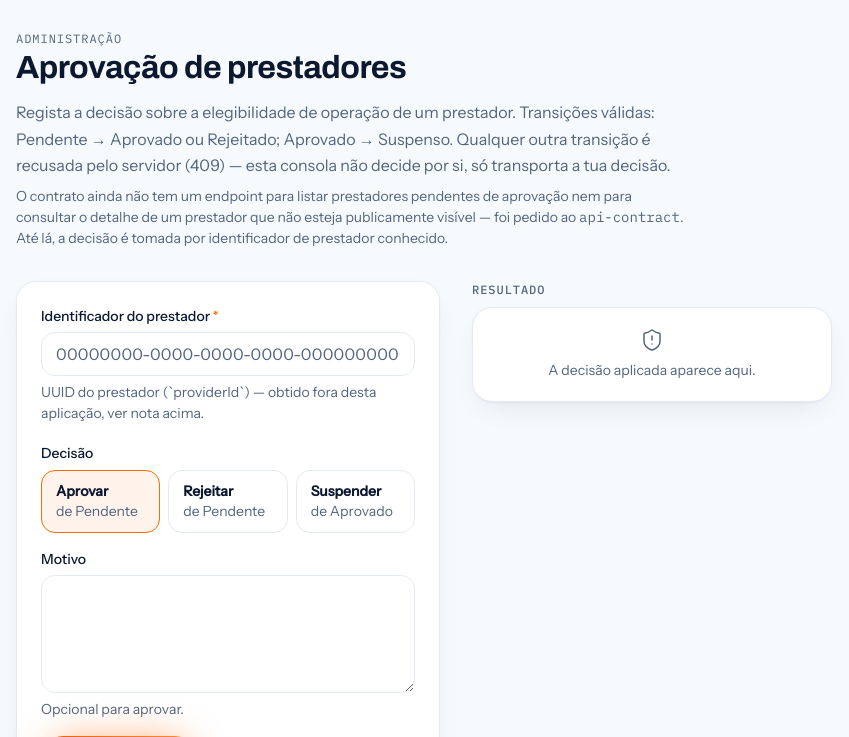
AdminProviderApprovalsPage — consola de aprovação (defeito C1) › 409 do servidor (transição inválida) aparece como erro, sem rebentar a página
Type "a419d818-cc7f-4910-a99b-c14cb157f3eb" into the field labelled "Identificador do prestador *" at (228, 354), box [41,332,415,376]
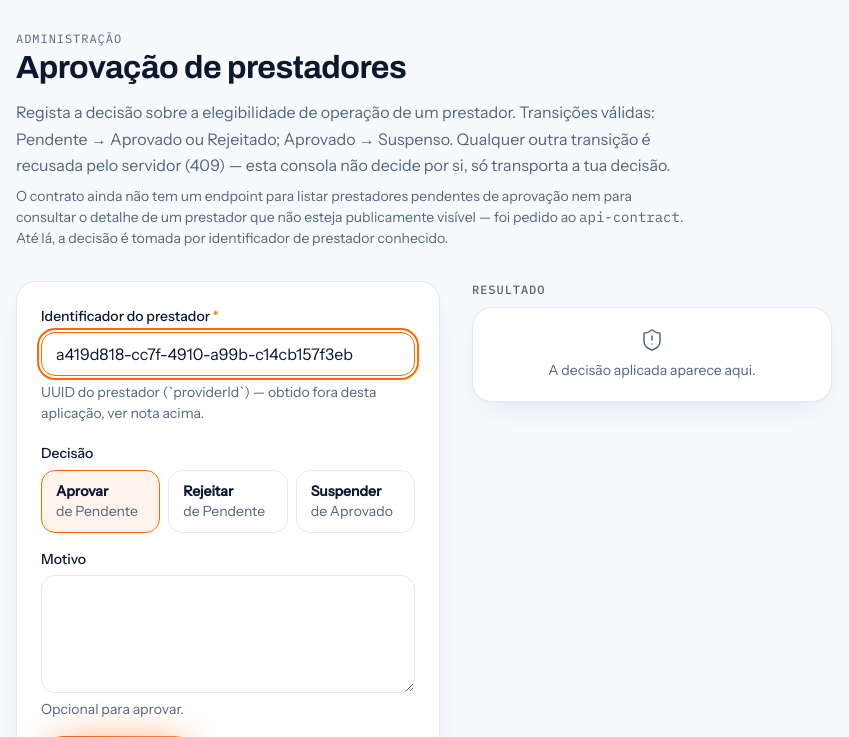
Click the radio button labelled "Aprovar de Pendente" at (101, 502), box [41,470,160,533]
(page scrolled)
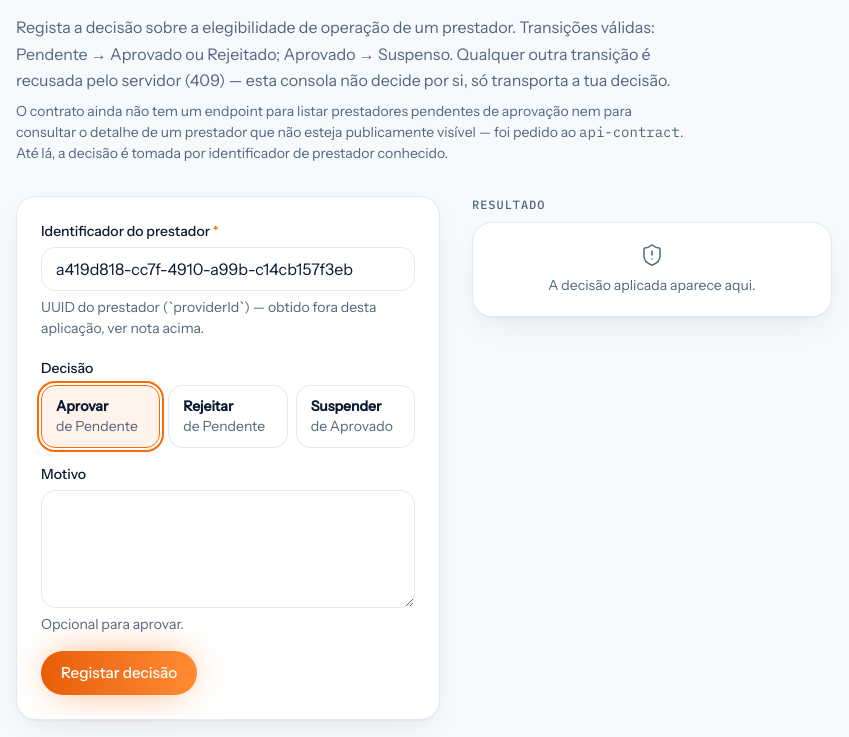
Click the button "Registar decisão" at (119, 673), box [41,651,197,695]
(page scrolled)
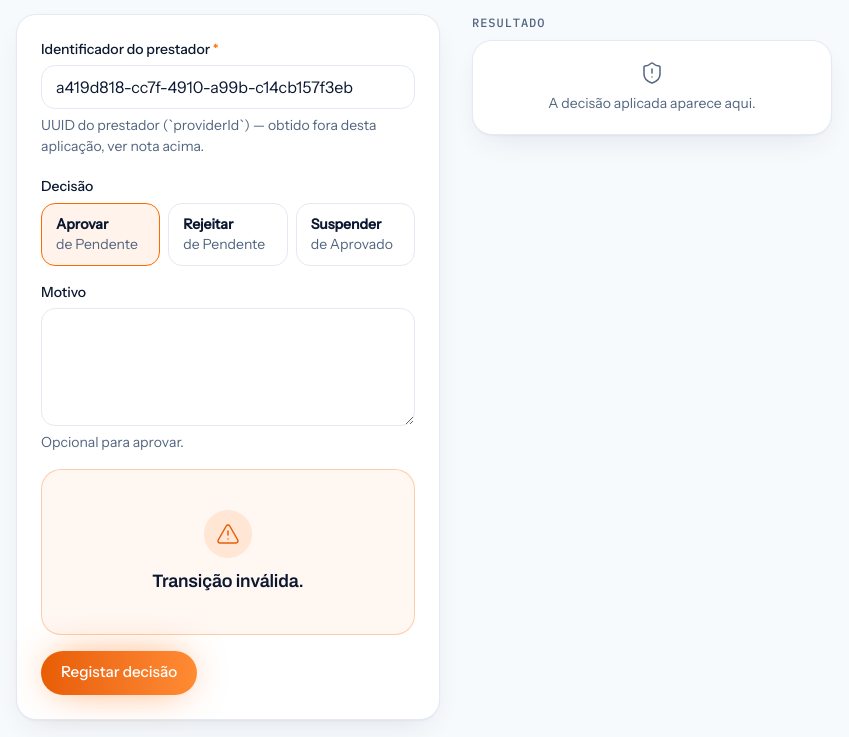
Result: the message "Transição inválida." is shown at [41,469,415,635]
